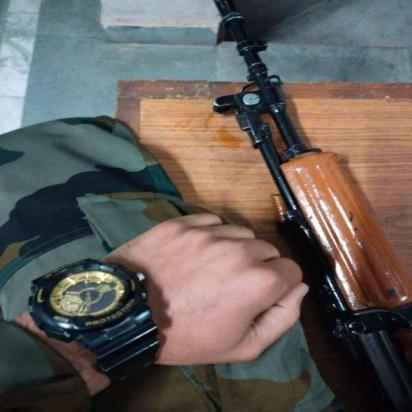Gun: (209, 0, 411, 411)
